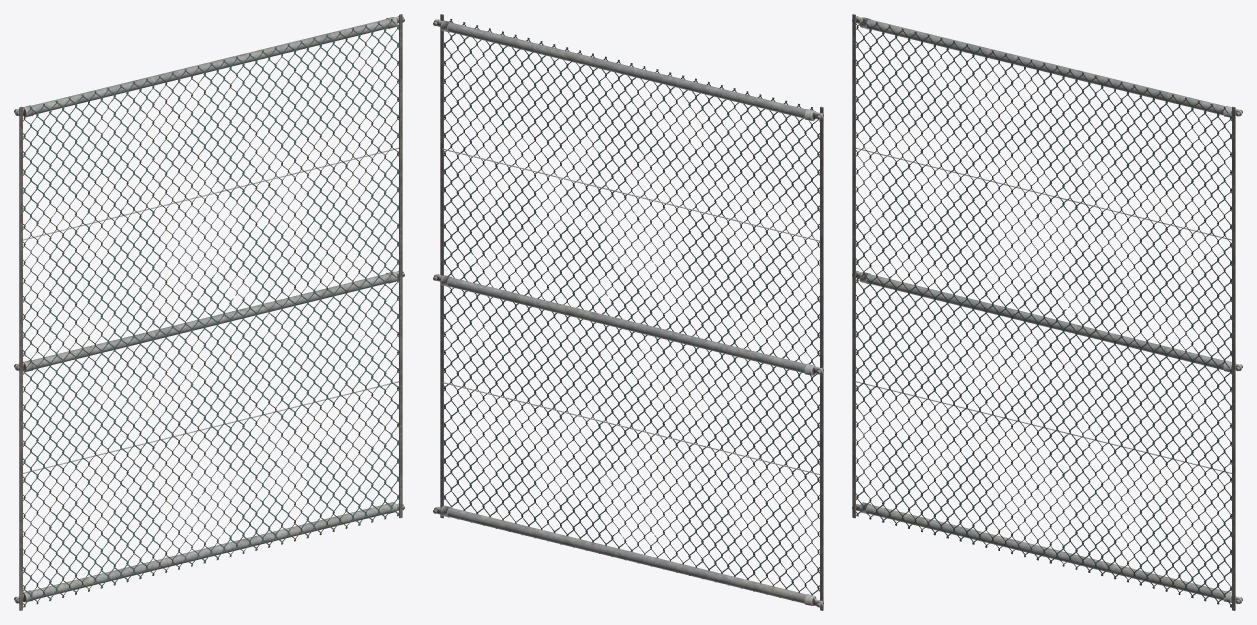
Rendered from fence.glb.
3 renders of one model, left to right at view 1: azimuth 30°, elevation 25°; view 2: azimuth 150°, elevation 25°; view 3: azimuth 330°, elevation 25°, orthographic.
Parts seen in each view (by area): view 1: modular_chainlink_fence_double; view 2: modular_chainlink_fence_double; view 3: modular_chainlink_fence_double.
Part boxes in pixels (bbox=[...]): modular_chainlink_fence_double: bbox=[14, 14, 404, 610]; modular_chainlink_fence_double: bbox=[433, 14, 823, 610]; modular_chainlink_fence_double: bbox=[852, 14, 1242, 610].
Size of the model in its own units: 1.91 by 2.37 by 0.0486.
2 materials, 2 textured.
